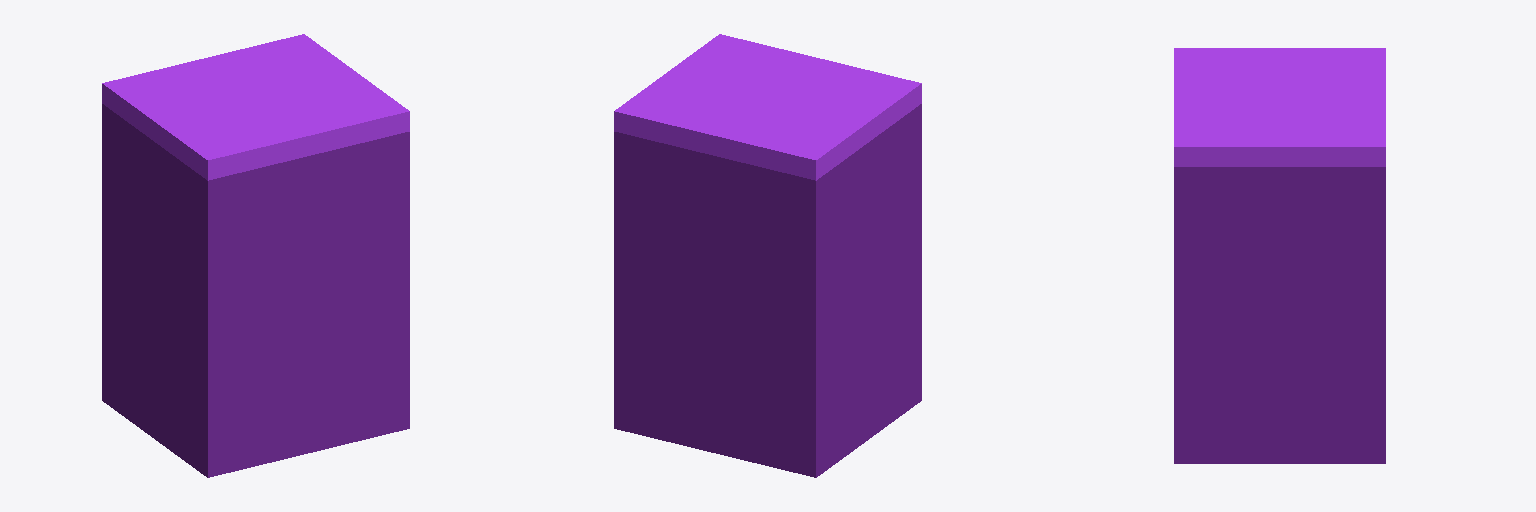
3 renders of one model, left to right at view 1: azimuth 30°, elevation 25°; view 2: azimuth 150°, elevation 25°; view 3: azimuth 270°, elevation 25°, orthographic.
Parts seen in each view (by area): view 1: object 1; view 2: object 1; view 3: object 1.
Boxes of the visible parts, <box> form: object 1: <box>102,34,409,477</box>; object 1: <box>614,34,921,477</box>; object 1: <box>1174,48,1385,463</box>.
Bounding box in the file's own units: 4.2 × 6.3 × 3.8.
Materials: 1 (1 with a texture image).